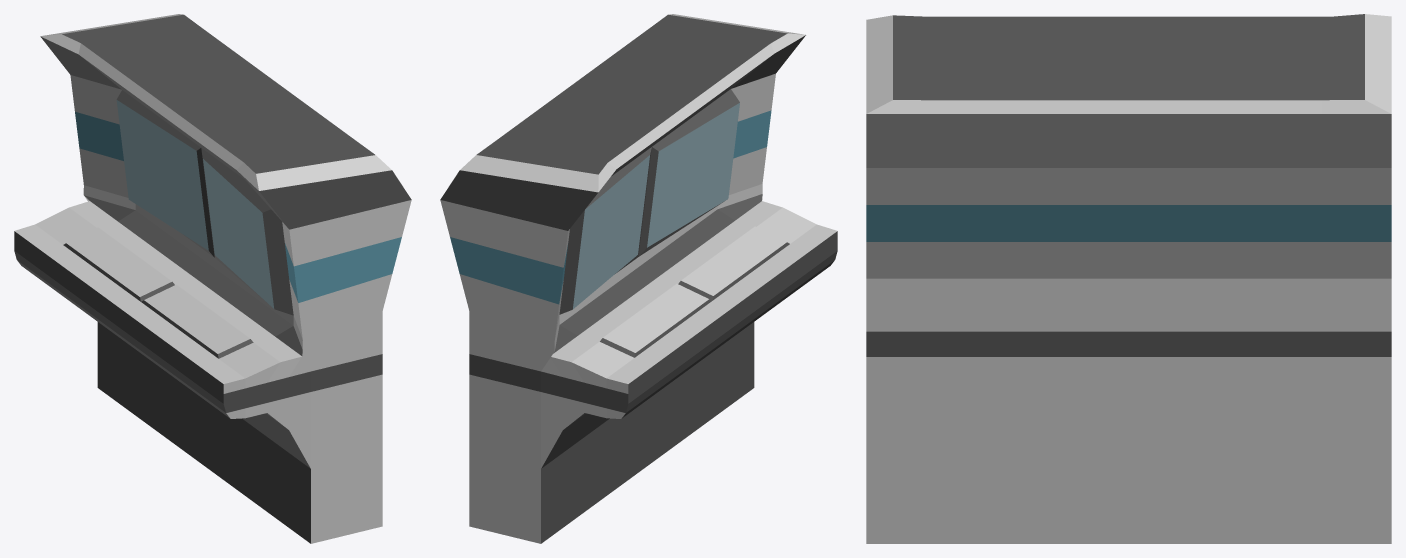
File: Computer.dae
3 renders of one model, left to right at view 1: azimuth 30°, elevation 25°; view 2: azimuth 150°, elevation 25°; view 3: azimuth 270°, elevation 25°, orthographic. The views are drawn at different scales.
Parts seen in each view (by area): view 1: Cube; view 2: Cube; view 3: Cube.
Boxes of the visible parts, <box> form: Cube: <box>14,14,411,543</box>; Cube: <box>440,14,837,543</box>; Cube: <box>866,14,1391,543</box>.
Size of the model in its own units: 1.07 by 2.12 by 2.04.
